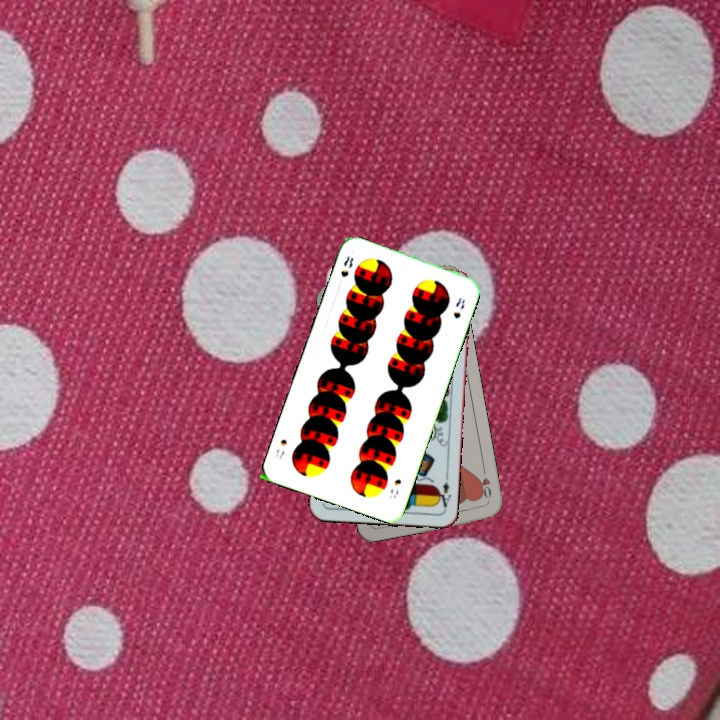EA: (433, 471, 454, 509)
HO: (474, 464, 494, 504)
S8: (337, 252, 356, 280), (385, 475, 404, 501)
